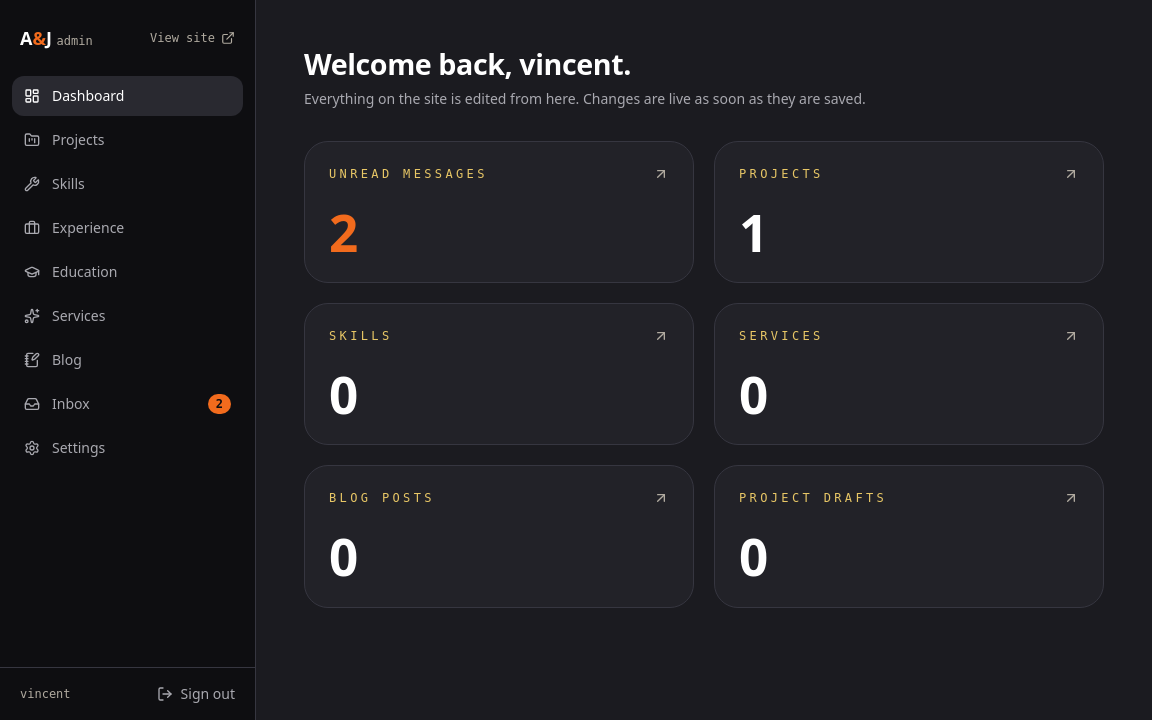
Test case: admin area › signs out and returns to the sign-in page
The width and height of the screenshot is (1152, 720).
Step 1. Click the button "Sign out" → (196, 694), box [157, 684, 235, 704]
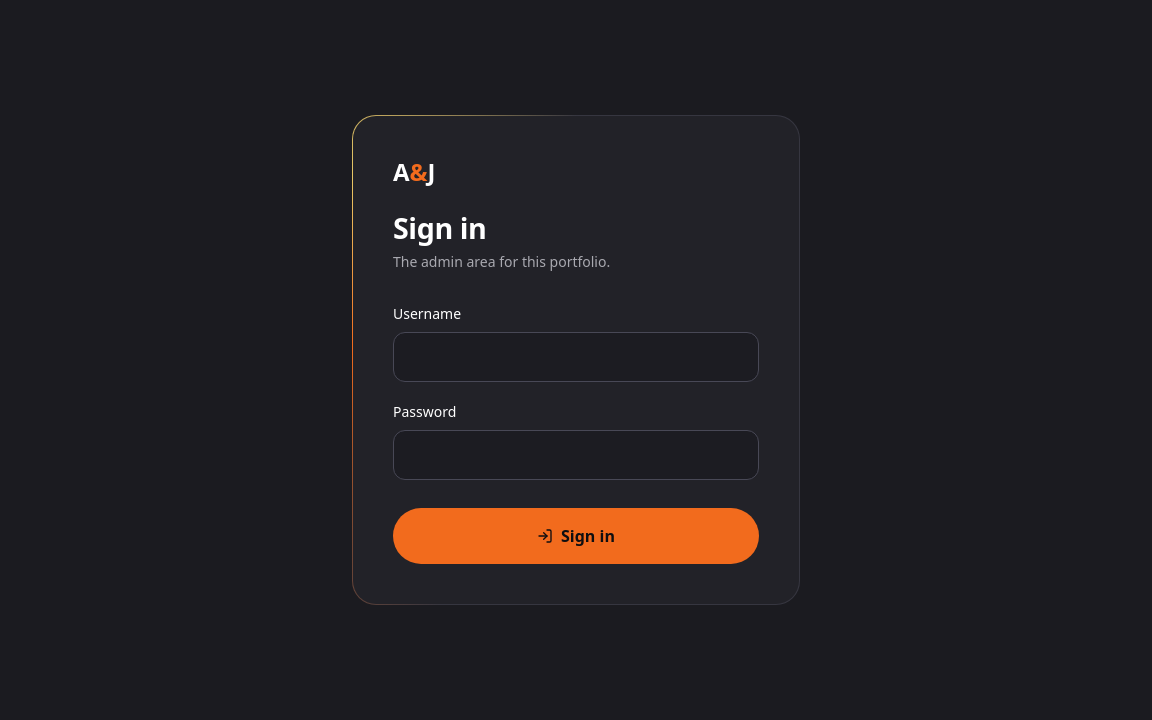
Now the heading "Sign in" is shown, box [393, 208, 486, 246]
